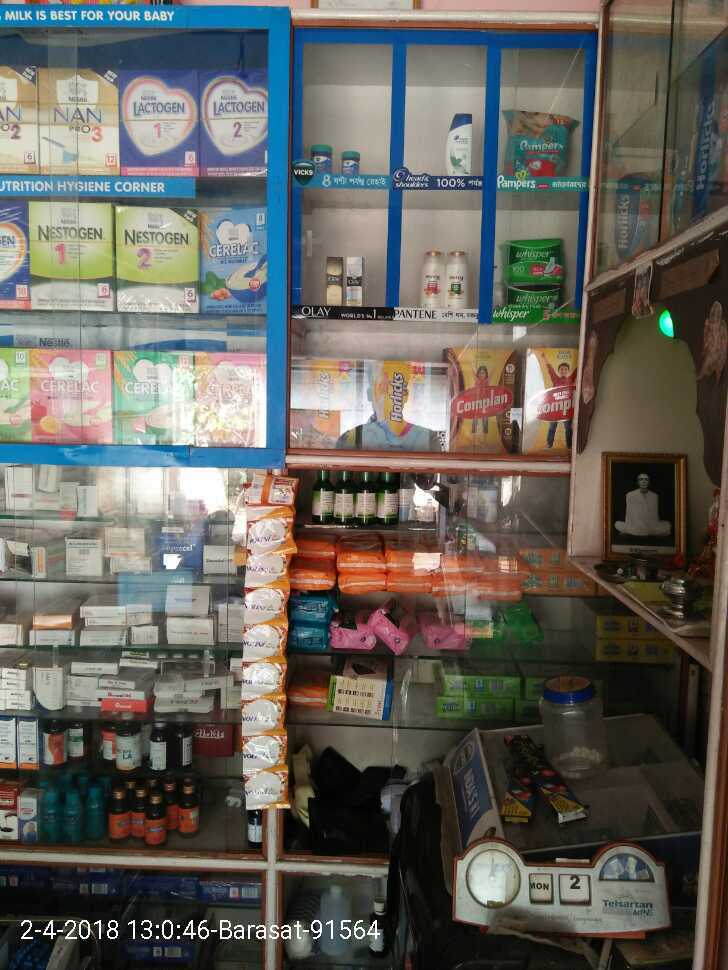vicks: (313, 145, 362, 175)
